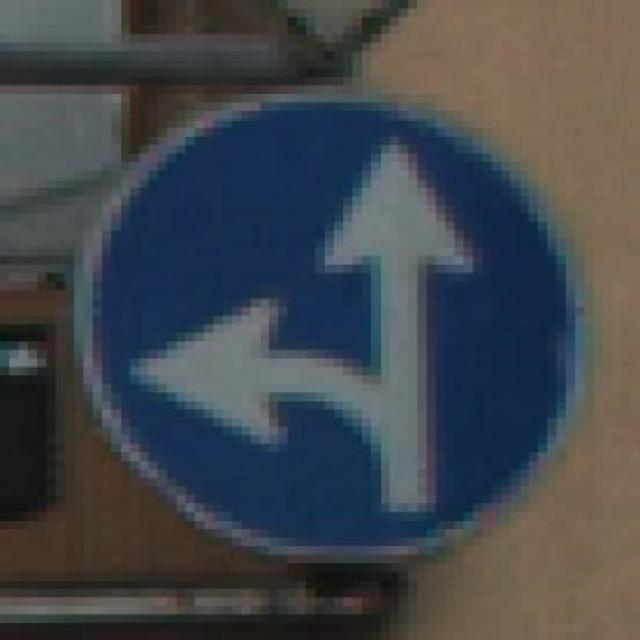Go straight or turn left: (65, 86, 612, 572)
